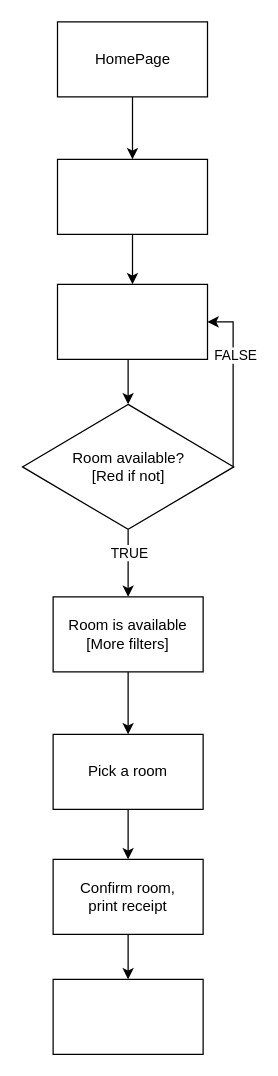
The diagram is 278 pixels wide and 1076 high, and some of its shapes have lost their labels. Each missing label, with the centre of its shape:
"Book a room" goes at pixel 132 196.
"Filter(amout of people, date)" goes at pixel 132 321.
"Send Email confirmation" goes at pixel 127 1016.
